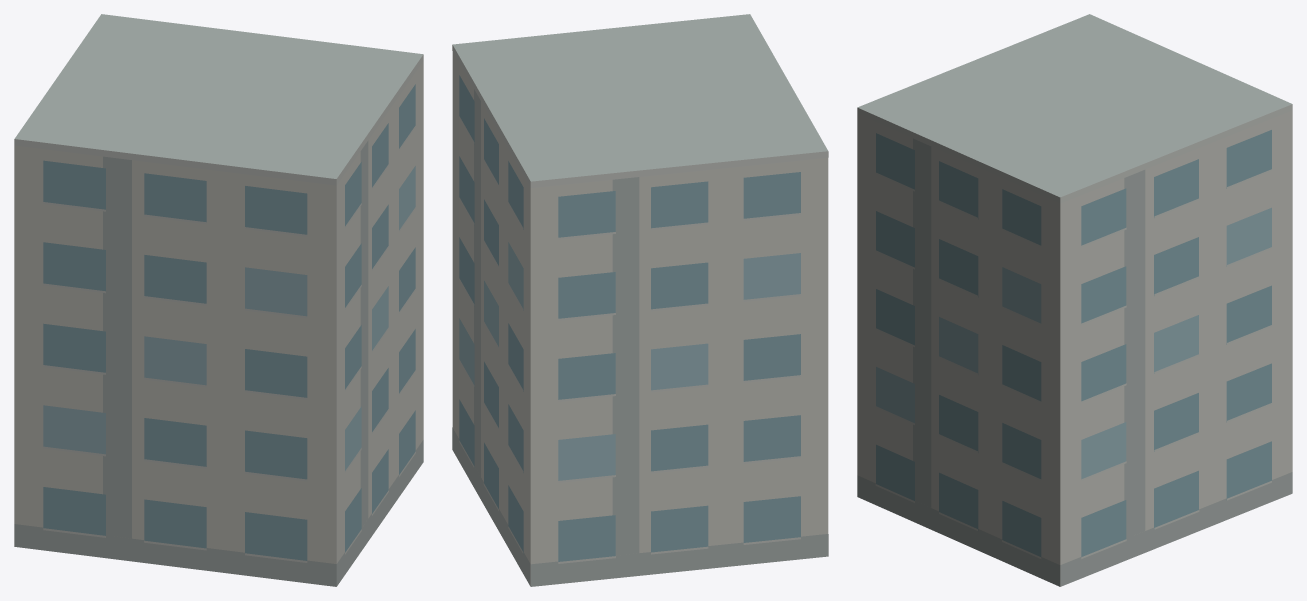
The model's file is residential-292552ea-06d2-4721-9106-fc34b0ca6860.glb.
3 renders of one model, left to right at view 1: azimuth 30°, elevation 25°; view 2: azimuth 150°, elevation 25°; view 3: azimuth 270°, elevation 25°, orthographic. The views are drawn at different scales.
Parts seen in each view (by area): view 1: residential-292552ea-06d2-4721-9106-fc34b0ca6860.tmp; view 2: residential-292552ea-06d2-4721-9106-fc34b0ca6860.tmp; view 3: residential-292552ea-06d2-4721-9106-fc34b0ca6860.tmp.
Part boxes in pixels (<box>): residential-292552ea-06d2-4721-9106-fc34b0ca6860.tmp: <box>14,14,423,586</box>; residential-292552ea-06d2-4721-9106-fc34b0ca6860.tmp: <box>452,14,828,586</box>; residential-292552ea-06d2-4721-9106-fc34b0ca6860.tmp: <box>857,14,1292,586</box>.
Bounding box in the file's own units: 15.42 × 15.25 × 15.46.
